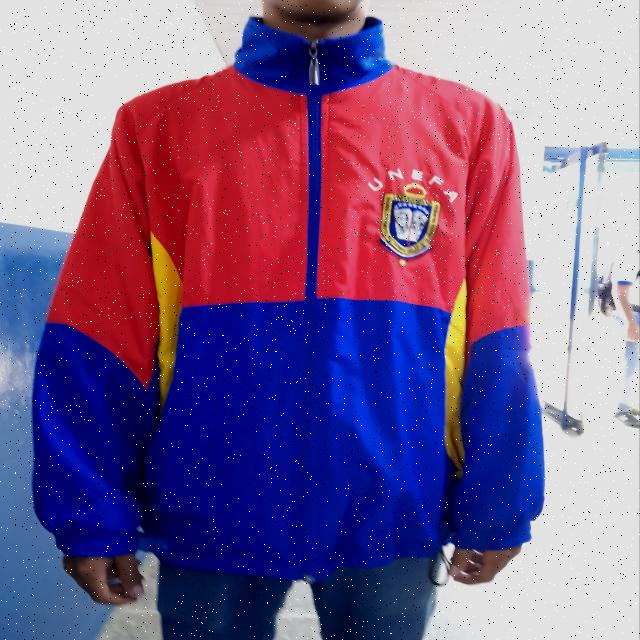chaqueta_unefa: (29, 14, 544, 581)
